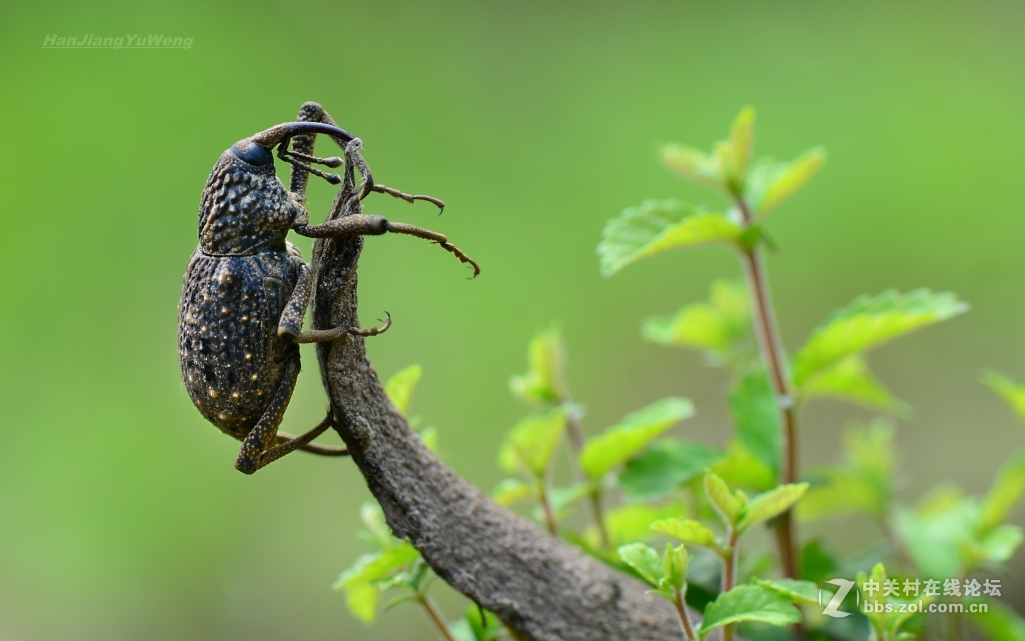Curculionidae: (175, 101, 481, 476)
